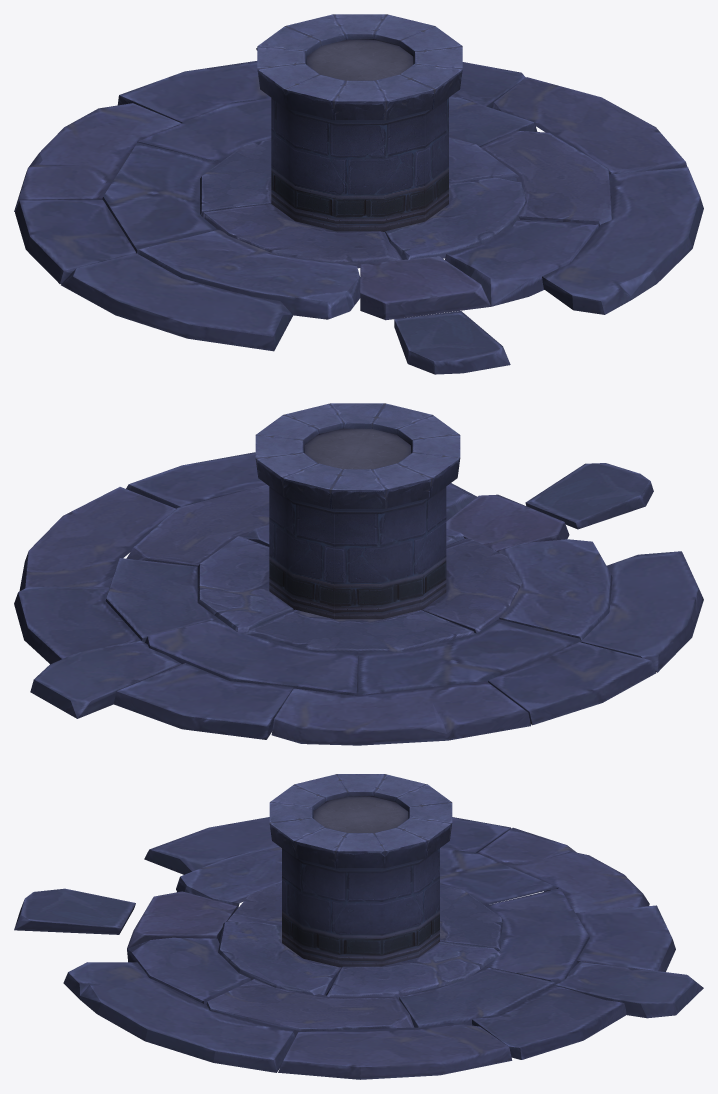
File: Area11_11.fbx
The picture shows the model from 3 angles, top to bottom: view 1: azimuth 30°, elevation 25°; view 2: azimuth 150°, elevation 25°; view 3: azimuth 270°, elevation 25°; orthographic projection. The views are drawn at different scales.
Visible parts, largest first — view 1: Area11_11; view 2: Area11_11; view 3: Area11_11.
Boxes of the visible parts, x1,y1,x2,y2 form: Area11_11: (14, 14, 703, 374); Area11_11: (14, 403, 703, 745); Area11_11: (14, 774, 703, 1079).
Bounding box in the file's own units: 1535 × 377 × 1717.
1 material, 1 textured.
